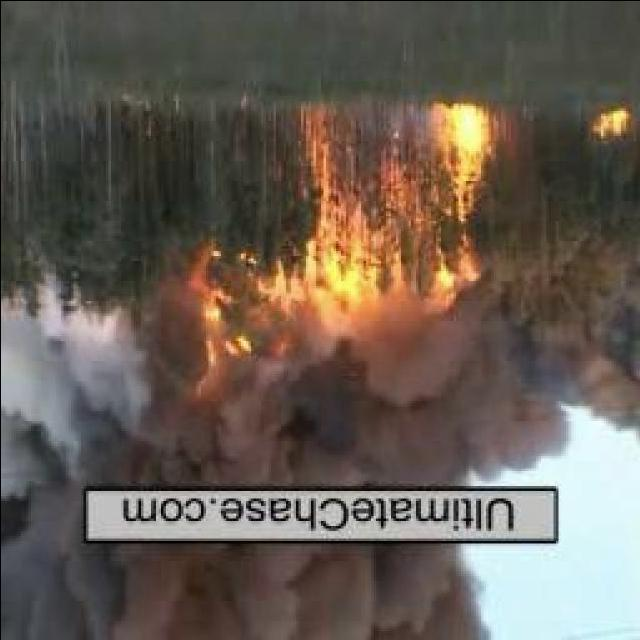Fire: (299, 98, 487, 342), (187, 252, 250, 372), (590, 104, 626, 146)
